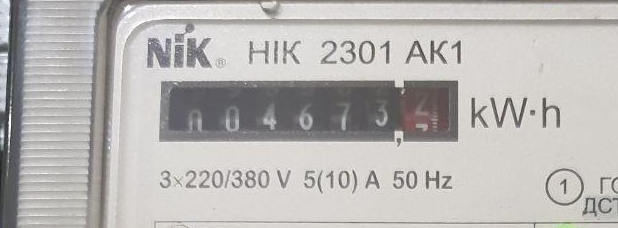0: (184, 105, 204, 135), (222, 103, 240, 134)
2: (411, 87, 431, 119)
3: (372, 96, 389, 130)
4: (260, 99, 278, 134)
6: (294, 99, 315, 133)
7: (332, 99, 354, 136)
screen: (154, 76, 463, 152)
